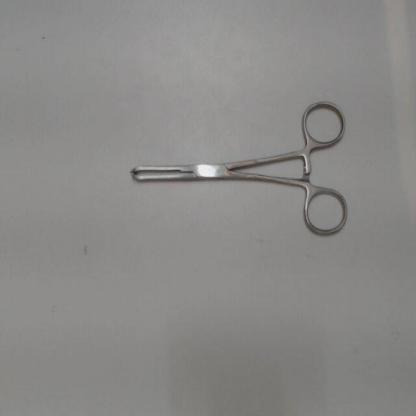Allis Tissue Forceps: (121, 100, 350, 246)
